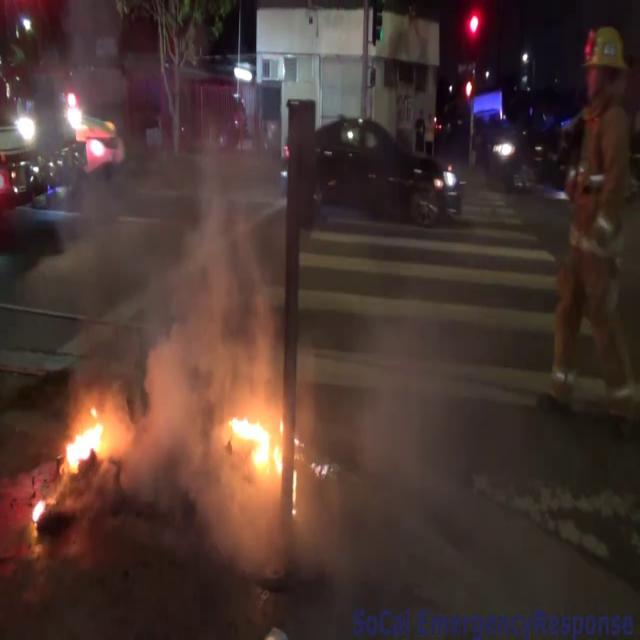Fire: (222, 400, 288, 484), (58, 395, 119, 478), (28, 489, 48, 526)
Smoke: (308, 296, 514, 551), (154, 102, 293, 448)
